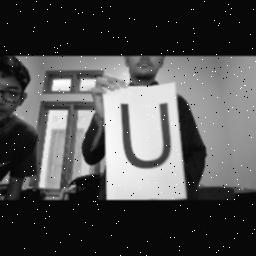u: (119, 100, 175, 172)
